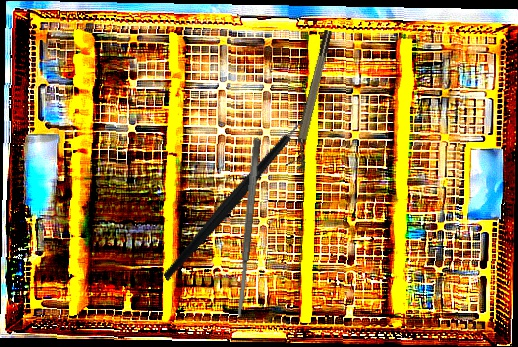Chopper: (122, 99, 349, 282)
Fixation Ring: (285, 29, 341, 171)
Spatula Surgical: (233, 136, 263, 320)
